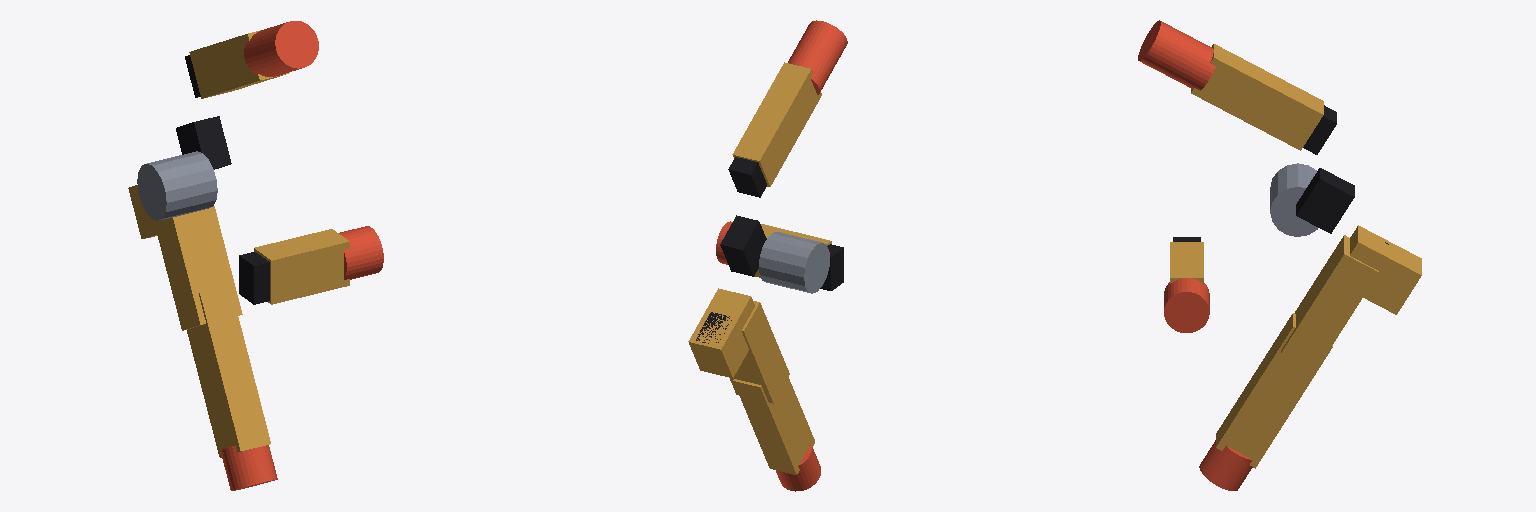
robot.urdf — g0038_c10:
<robot name="g0038_c10">
  <link name="palm">
    <visual name="palm_palm1">
      <origin xyz="0 0 0" rpy="0 0 0" />
      <geometry>
        <mesh filename="palm_palm1.obj" />
      </geometry>
      <material name="palm_palm1_mat">
        <color rgba="0.55 0.57 0.62 1" />
      </material>
    </visual>
    <collision>
      <origin xyz="0 0 0" rpy="0 0 0" />
      <geometry>
        <mesh filename="palm_palm1.obj" />
      </geometry>
    </collision>
    <visual name="palm_mount2">
      <origin xyz="0 0 0" rpy="0 0 0" />
      <geometry>
        <mesh filename="palm_mount2.obj" />
      </geometry>
      <material name="palm_mount2_mat">
        <color rgba="0.55 0.57 0.62 1" />
      </material>
    </visual>
    <collision>
      <origin xyz="0 0 0" rpy="0 0 0" />
      <geometry>
        <mesh filename="palm_mount2.obj" />
      </geometry>
    </collision>
    <visual name="palm_hinge3">
      <origin xyz="0 0.019910254 0.0144855716" rpy="-1.57079633 0.523598776 1.57079633" />
      <geometry>
        <box size="0.029 0.034 0.02" />
      </geometry>
      <material name="palm_hinge3_mat">
        <color rgba="0.15 0.15 0.17 1" />
      </material>
    </visual>
    <collision>
      <origin xyz="0 0.019910254 0.0144855716" rpy="-1.57079633 0.523598776 1.57079633" />
      <geometry>
        <box size="0.029 0.034 0.02" />
      </geometry>
    </collision>
    <visual name="palm_motor4">
      <origin xyz="-0.007 -0.08 -0.04" rpy="1.57079633 -1.57079633 0" />
      <geometry>
        <box size="0.029 0.034 0.02" />
      </geometry>
      <material name="palm_motor4_mat">
        <color rgba="0.15 0.15 0.17 1" />
      </material>
    </visual>
    <collision>
      <origin xyz="-0.007 -0.08 -0.04" rpy="1.57079633 -1.57079633 0" />
      <geometry>
        <box size="0.029 0.034 0.02" />
      </geometry>
    </collision>
    <visual name="palm_motor5">
      <origin xyz="-0.0045 0.0666996732 -0.0467548095" rpy="1.57079633 -0.523598776 -1.57079633" />
      <geometry>
        <box size="0.029 0.034 0.02" />
      </geometry>
      <material name="palm_motor5_mat">
        <color rgba="0.15 0.15 0.17 1" />
      </material>
    </visual>
    <collision>
      <origin xyz="-0.0045 0.0666996732 -0.0467548095" rpy="1.57079633 -0.523598776 -1.57079633" />
      <geometry>
        <box size="0.029 0.034 0.02" />
      </geometry>
    </collision>
    <inertial>
      <origin xyz="0 -0.00572908819 -0.0216468788" rpy="-1.57079633 0.195828016 1.57079633" />
      <mass value="0.588407455" />
      <inertia ixx="0.000431390165" ixy="0" ixz="0" iyy="0.00126607199" iyz="0" izz="0.00164097504" />
    </inertial>
  </link>
  <link name="palm0">
    <visual name="palm0_palm1">
      <origin xyz="0 0 0" rpy="0 0 0" />
      <geometry>
        <mesh filename="palm0_palm1.obj" />
      </geometry>
      <material name="palm0_palm1_mat">
        <color rgba="0.55 0.57 0.62 1" />
      </material>
    </visual>
    <collision>
      <origin xyz="0 0 0" rpy="0 0 0" />
      <geometry>
        <mesh filename="palm0_palm1.obj" />
      </geometry>
    </collision>
    <visual name="palm0_motor2">
      <origin xyz="0 -0.0171650635 0.0552692379" rpy="-1.57079633 -1.04719755 1.57079633" />
      <geometry>
        <box size="0.029 0.034 0.02" />
      </geometry>
      <material name="palm0_motor2_mat">
        <color rgba="0.15 0.15 0.17 1" />
      </material>
    </visual>
    <collision>
      <origin xyz="0 -0.0171650635 0.0552692379" rpy="-1.57079633 -1.04719755 1.57079633" />
      <geometry>
        <box size="0.029 0.034 0.02" />
      </geometry>
    </collision>
    <inertial>
      <origin xyz="3.59253314e-19 -0.00576319058 0.0328357044" rpy="1.57079633 0.75323985 1.57079633" />
      <mass value="0.171919971" />
      <inertia ixx="3.7158595e-05" ixy="0" ixz="0" iyy="0.000145890424" iyz="0" izz="0.000166544702" />
    </inertial>
  </link>
  <link name="f0_link0">
    <visual name="f0_link0_link1">
      <origin xyz="0.01875 6.9388939e-18 0" rpy="0 -3.00807789e-49 0" />
      <geometry>
        <box size="0.0615 0.033 0.024" />
      </geometry>
      <material name="f0_link0_link1_mat">
        <color rgba="0.80 0.62 0.30 1" />
      </material>
    </visual>
    <collision>
      <origin xyz="0.01875 6.9388939e-18 0" rpy="0 -3.00807789e-49 0" />
      <geometry>
        <box size="0.0615 0.033 0.024" />
      </geometry>
    </collision>
    <inertial>
      <origin xyz="0.01875 0 0" rpy="0 0 0" />
      <mass value="0.085239" />
      <inertia ixx="1.18269113e-05" ixy="0" ixz="0" iyy="3.09577393e-05" iyz="0" izz="3.46017066e-05" />
    </inertial>
  </link>
  <link name="f0_link1">
    <visual name="f0_link1_link1">
      <origin xyz="0.019 6.9388939e-18 0" rpy="-1.57079633 -0 -1.57079633" />
      <geometry>
        <cylinder radius="0.0165" length="0.029" />
      </geometry>
      <material name="f0_link1_link1_mat">
        <color rgba="0.85 0.35 0.25 1" />
      </material>
    </visual>
    <collision>
      <origin xyz="0.019 6.9388939e-18 0" rpy="-1.57079633 -0 -1.57079633" />
      <geometry>
        <cylinder radius="0.0165" length="0.029" />
      </geometry>
    </collision>
    <inertial>
      <origin xyz="0.019 0 0" rpy="0 0 0" />
      <mass value="0.0763354" />
      <inertia ixx="9.49466441e-06" ixy="0" ixz="0" iyy="2.24143997e-05" iyz="0" izz="2.24143997e-05" />
    </inertial>
  </link>
  <link name="f1_link0">
    <visual name="f1_link0_link1">
      <origin xyz="0.03375 0 0" rpy="0 7.03853194e-17 0" />
      <geometry>
        <box size="0.0915 0.024 0.033" />
      </geometry>
      <material name="f1_link0_link1_mat">
        <color rgba="0.80 0.62 0.30 1" />
      </material>
    </visual>
    <collision>
      <origin xyz="0.03375 0 0" rpy="0 7.03853194e-17 0" />
      <geometry>
        <box size="0.0915 0.024 0.033" />
      </geometry>
    </collision>
    <inertial>
      <origin xyz="0.03375 0 0" rpy="0 0 0" />
      <mass value="0.126819" />
      <inertia ixx="1.75961363e-05" ixy="0" ixz="0" iyy="9.99888553e-05" iyz="0" izz="9.45673431e-05" />
    </inertial>
  </link>
  <link name="f1_link1">
    <visual name="f1_link1_link1">
      <origin xyz="0.029 0 -6.9388939e-18" rpy="-1.57079633 -0 -1.57079633" />
      <geometry>
        <cylinder radius="0.0165" length="0.049" />
      </geometry>
      <material name="f1_link1_link1_mat">
        <color rgba="0.85 0.35 0.25 1" />
      </material>
    </visual>
    <collision>
      <origin xyz="0.029 0 -6.9388939e-18" rpy="-1.57079633 -0 -1.57079633" />
      <geometry>
        <cylinder radius="0.0165" length="0.049" />
      </geometry>
    </collision>
    <inertial>
      <origin xyz="0.029 0 0" rpy="0 0 0" />
      <mass value="0.106270851" />
      <inertia ixx="1.35696277e-05" ixy="0" ixz="0" iyy="5.30015704e-05" iyz="0" izz="5.30015704e-05" />
    </inertial>
  </link>
  <link name="f2_link0">
    <visual name="f2_link0_link1">
      <origin xyz="-0.00625 0 -0.0165" rpy="0 4.06369831e-17 0" />
      <geometry>
        <box size="0.0365 0.029 0.053" />
      </geometry>
      <material name="f2_link0_link1_mat">
        <color rgba="0.80 0.62 0.30 1" />
      </material>
    </visual>
    <collision>
      <origin xyz="-0.00625 0 -0.0165" rpy="0 4.06369831e-17 0" />
      <geometry>
        <box size="0.0365 0.029 0.053" />
      </geometry>
    </collision>
    <inertial>
      <origin xyz="-0.00625 0 -0.0165" rpy="0 0 0" />
      <mass value="0.098175875" />
      <inertia ixx="2.98618286e-05" ixy="0" ixz="0" iyy="3.38809035e-05" iyz="0" izz="1.778006e-05" />
    </inertial>
  </link>
  <link name="f2_link1">
    <visual name="f2_link1_link1">
      <origin xyz="0.03375 0 6.9388939e-18" rpy="0 4.06369831e-17 0" />
      <geometry>
        <box size="0.0915 0.033 0.029" />
      </geometry>
      <material name="f2_link1_link1_mat">
        <color rgba="0.80 0.62 0.30 1" />
      </material>
    </visual>
    <collision>
      <origin xyz="0.03375 0 6.9388939e-18" rpy="0 4.06369831e-17 0" />
      <geometry>
        <box size="0.0915 0.033 0.029" />
      </geometry>
    </collision>
    <inertial>
      <origin xyz="0.03375 0 0" rpy="0 0 0" />
      <mass value="0.153239625" />
      <inertia ixx="2.46460397e-05" ixy="0" ixz="0" iyy="0.000117652915" iyz="0" izz="0.000120819867" />
    </inertial>
  </link>
  <link name="f2_link2">
    <visual name="f2_link2_link1">
      <origin xyz="0.04375 0 -6.9388939e-18" rpy="0 4.06369831e-17 0" />
      <geometry>
        <box size="0.1115 0.024 0.033" />
      </geometry>
      <material name="f2_link2_link1_mat">
        <color rgba="0.80 0.62 0.30 1" />
      </material>
    </visual>
    <collision>
      <origin xyz="0.04375 0 -6.9388939e-18" rpy="0 4.06369831e-17 0" />
      <geometry>
        <box size="0.1115 0.024 0.033" />
      </geometry>
    </collision>
    <inertial>
      <origin xyz="0.04375 0 0" rpy="0 0 0" />
      <mass value="0.154539" />
      <inertia ixx="2.14422863e-05" ixy="0" ixz="0" iyy="0.000174130038" iyz="0" izz="0.000167523496" />
    </inertial>
  </link>
  <link name="f2_link3">
    <visual name="f2_link3_link1">
      <origin xyz="0.019 0 -1.73472348e-17" rpy="-1.57079633 -0 -1.57079633" />
      <geometry>
        <cylinder radius="0.0165" length="0.029" />
      </geometry>
      <material name="f2_link3_link1_mat">
        <color rgba="0.85 0.35 0.25 1" />
      </material>
    </visual>
    <collision>
      <origin xyz="0.019 0 -1.73472348e-17" rpy="-1.57079633 -0 -1.57079633" />
      <geometry>
        <cylinder radius="0.0165" length="0.029" />
      </geometry>
    </collision>
    <inertial>
      <origin xyz="0.019 0 0" rpy="0 0 0" />
      <mass value="0.0763354" />
      <inertia ixx="9.49466441e-06" ixy="0" ixz="0" iyy="2.24143997e-05" iyz="0" izz="2.24143997e-05" />
    </inertial>
  </link>
  <joint name="palm0_joint" type="revolute">
    <parent link="palm" />
    <child link="palm0" />
    <origin xyz="0 0.023660254 0.0209807621" rpy="0 0 0" />
    <axis xyz="0 0.866025404 -0.5" />
    <limit effort="0.5" lower="-0.523598776" upper="0.523598776" velocity="5" />
    <dynamics damping="0.0775033" friction="0" />
  </joint>
  <joint name="f0_j0" type="revolute">
    <parent link="palm" />
    <child link="f0_link0" />
    <origin xyz="0.0005 -0.08 -0.04" rpy="1.57079633 6.123234e-17 7.49879891e-33" />
    <axis xyz="0 1 6.123234e-17" />
    <limit effort="0.5" lower="-0.523598776" upper="0.523598776" velocity="5" />
    <dynamics damping="0.0775033" friction="0" />
  </joint>
  <joint name="f0_j1" type="revolute">
    <parent link="f0_link0" />
    <child link="f0_link1" />
    <origin xyz="0.04 0 0" rpy="0 0 0" />
    <axis xyz="0 1 6.123234e-17" />
    <limit effort="0.5" lower="-0.523598776" upper="0.523598776" velocity="5" />
    <dynamics damping="0.0775033" friction="0" />
  </joint>
  <joint name="f1_j0" type="revolute">
    <parent link="palm0" />
    <child link="f1_link0" />
    <origin xyz="0 -0.023660254 0.0590192379" rpy="-0 -0.523598776 -1.57079633" />
    <axis xyz="0 0 1" />
    <limit effort="0.5" lower="-0.523598776" upper="1.57079633" velocity="5" />
    <dynamics damping="0.0775033" friction="0" />
  </joint>
  <joint name="f1_j1" type="revolute">
    <parent link="f1_link0" />
    <child link="f1_link1" />
    <origin xyz="0.07 0 0" rpy="0 0 0" />
    <axis xyz="0 0 1" />
    <limit effort="0.5" lower="-0.523598776" upper="1.57079633" velocity="5" />
    <dynamics damping="0.0775033" friction="0" />
  </joint>
  <joint name="f2_j0" type="revolute">
    <parent link="palm" />
    <child link="f2_link0" />
    <origin xyz="-0.0045 0.04 -0.04" rpy="0 1.04719755 -1.57079633" />
    <axis xyz="0 0 1" />
    <limit effort="0.5" lower="-0.523598776" upper="1.57079633" velocity="5" />
    <dynamics damping="0.0775033" friction="0" />
  </joint>
  <joint name="f2_j1" type="revolute">
    <parent link="f2_link0" />
    <child link="f2_link1" />
    <origin xyz="0 0 0" rpy="0 0 0" />
    <axis xyz="0 1 6.123234e-17" />
    <limit effort="0.5" lower="-0.523598776" upper="0.523598776" velocity="5" />
    <dynamics damping="0.0775033" friction="0" />
  </joint>
  <joint name="f2_j2" type="revolute">
    <parent link="f2_link1" />
    <child link="f2_link2" />
    <origin xyz="0.07 0 0" rpy="0 0 0" />
    <axis xyz="0 0 1" />
    <limit effort="0.5" lower="-0.523598776" upper="1.57079633" velocity="5" />
    <dynamics damping="0.0775033" friction="0" />
  </joint>
  <joint name="f2_j3" type="revolute">
    <parent link="f2_link2" />
    <child link="f2_link3" />
    <origin xyz="0.09 0 0" rpy="0 0 0" />
    <axis xyz="0 0 1" />
    <limit effort="0.5" lower="-0.523598776" upper="1.57079633" velocity="5" />
    <dynamics damping="0.0775033" friction="0" />
  </joint>
</robot>

--- Render facts (derived) ---
3 views of the same robot in one strip: view 1: azimuth 30°, elevation 25°; view 2: azimuth 150°, elevation 25°; view 3: azimuth 270°, elevation 25° (orthographic).
Robot: g0038_c10 — 10 links, 9 joints (9 revolute); root link palm; default pose: every joint at zero.
Links seen in each view (by area): view 1: f2_link2, palm, f2_link1, f0_link0, f1_link1, f1_link0, f2_link3, f0_link1, f2_link0; view 2: palm, f1_link0, f2_link2, f2_link0, f2_link1, f1_link1, palm0, f2_link3; view 3: f1_link0, f2_link2, f2_link1, palm, f2_link0, f1_link1, f0_link1, f2_link3, f0_link0, palm0.
Boxes of the visible links, x1,y1,x2,y2 form: f2_link2: [187, 285, 270, 457]; palm: [137, 116, 269, 304]; f2_link1: [154, 206, 242, 330]; f0_link0: [254, 229, 349, 304]; f1_link1: [244, 21, 318, 76]; f1_link0: [189, 30, 289, 98]; f2_link3: [220, 445, 277, 490]; f0_link1: [339, 226, 383, 279]; f2_link0: [128, 185, 156, 238]; palm: [696, 215, 843, 343]; f1_link0: [732, 62, 821, 186]; f2_link2: [733, 377, 814, 474]; f2_link0: [688, 288, 754, 377]; f2_link1: [730, 301, 789, 403]; f1_link1: [788, 20, 847, 94]; palm0: [728, 157, 766, 197]; f2_link3: [776, 444, 820, 491]; f1_link0: [1191, 44, 1323, 150]; f2_link2: [1216, 313, 1332, 468]; f2_link1: [1281, 235, 1378, 371]; palm: [1173, 163, 1388, 244]; f2_link0: [1350, 225, 1421, 314]; f1_link1: [1138, 20, 1215, 90]; f0_link1: [1164, 278, 1209, 332]; f2_link3: [1199, 440, 1252, 490]; f0_link0: [1170, 242, 1203, 283]; palm0: [1303, 105, 1336, 154].
Size in the robot's own frame: 0.126 by 0.2047 by 0.3719 metres.
Meshes: 3 distinct files referenced, 1 mesh visuals loaded (1 OBJ); not drawn: 2 (reference not matched to a file when rendering).
